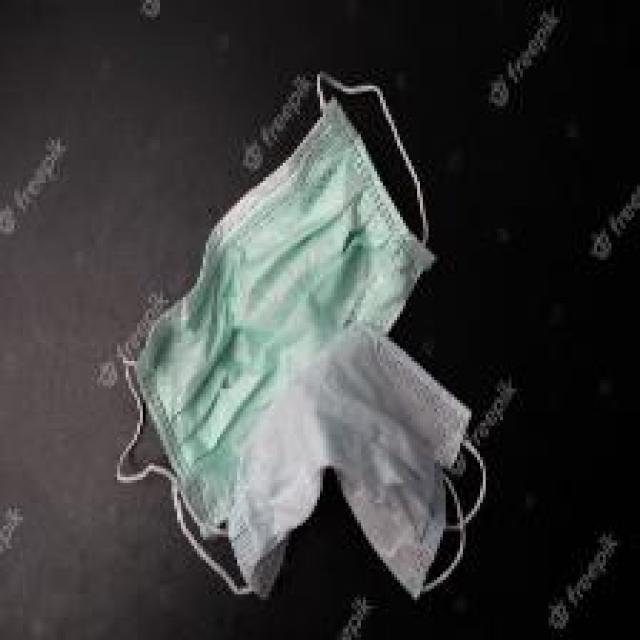Mask: (108, 71, 492, 594)
